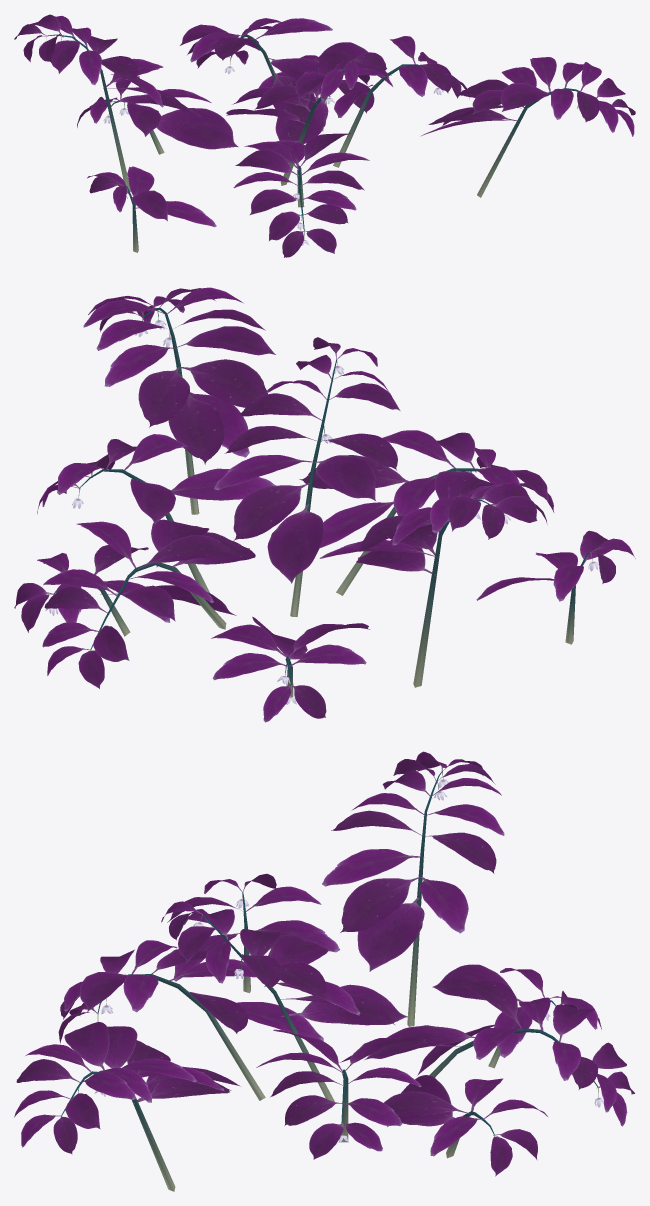
The picture shows the model from 3 angles, top to bottom: view 1: azimuth 30°, elevation 25°; view 2: azimuth 150°, elevation 25°; view 3: azimuth 270°, elevation 25°; orthographic projection. The views are drawn at different scales.
Visible parts, largest first — view 1: SM_GF_Lily_01_LOD0; view 2: SM_GF_Lily_01_LOD0; view 3: SM_GF_Lily_01_LOD0.
Boxes of the visible parts, bbox=[...] form: SM_GF_Lily_01_LOD0: bbox=[14, 14, 635, 257]; SM_GF_Lily_01_LOD0: bbox=[14, 287, 635, 722]; SM_GF_Lily_01_LOD0: bbox=[14, 751, 634, 1191].
Size of the model in its own units: 1.53 by 0.5423 by 1.36.
1 material, 1 textured.
